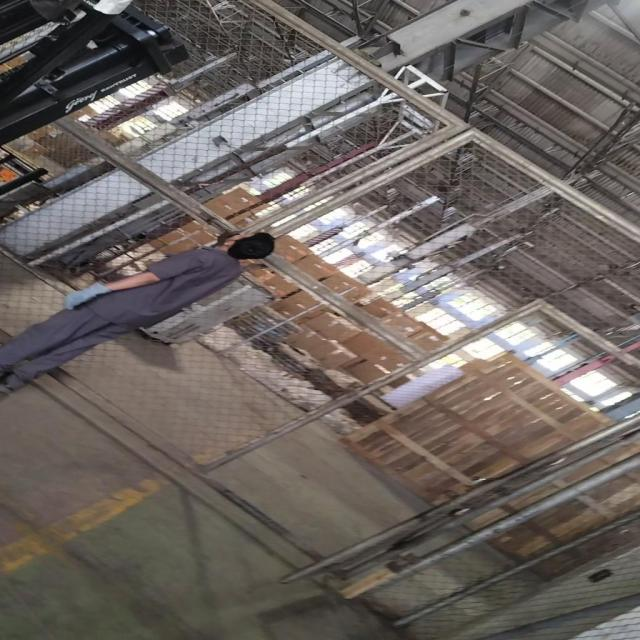Gloves-Detection: (66, 279, 109, 305)
